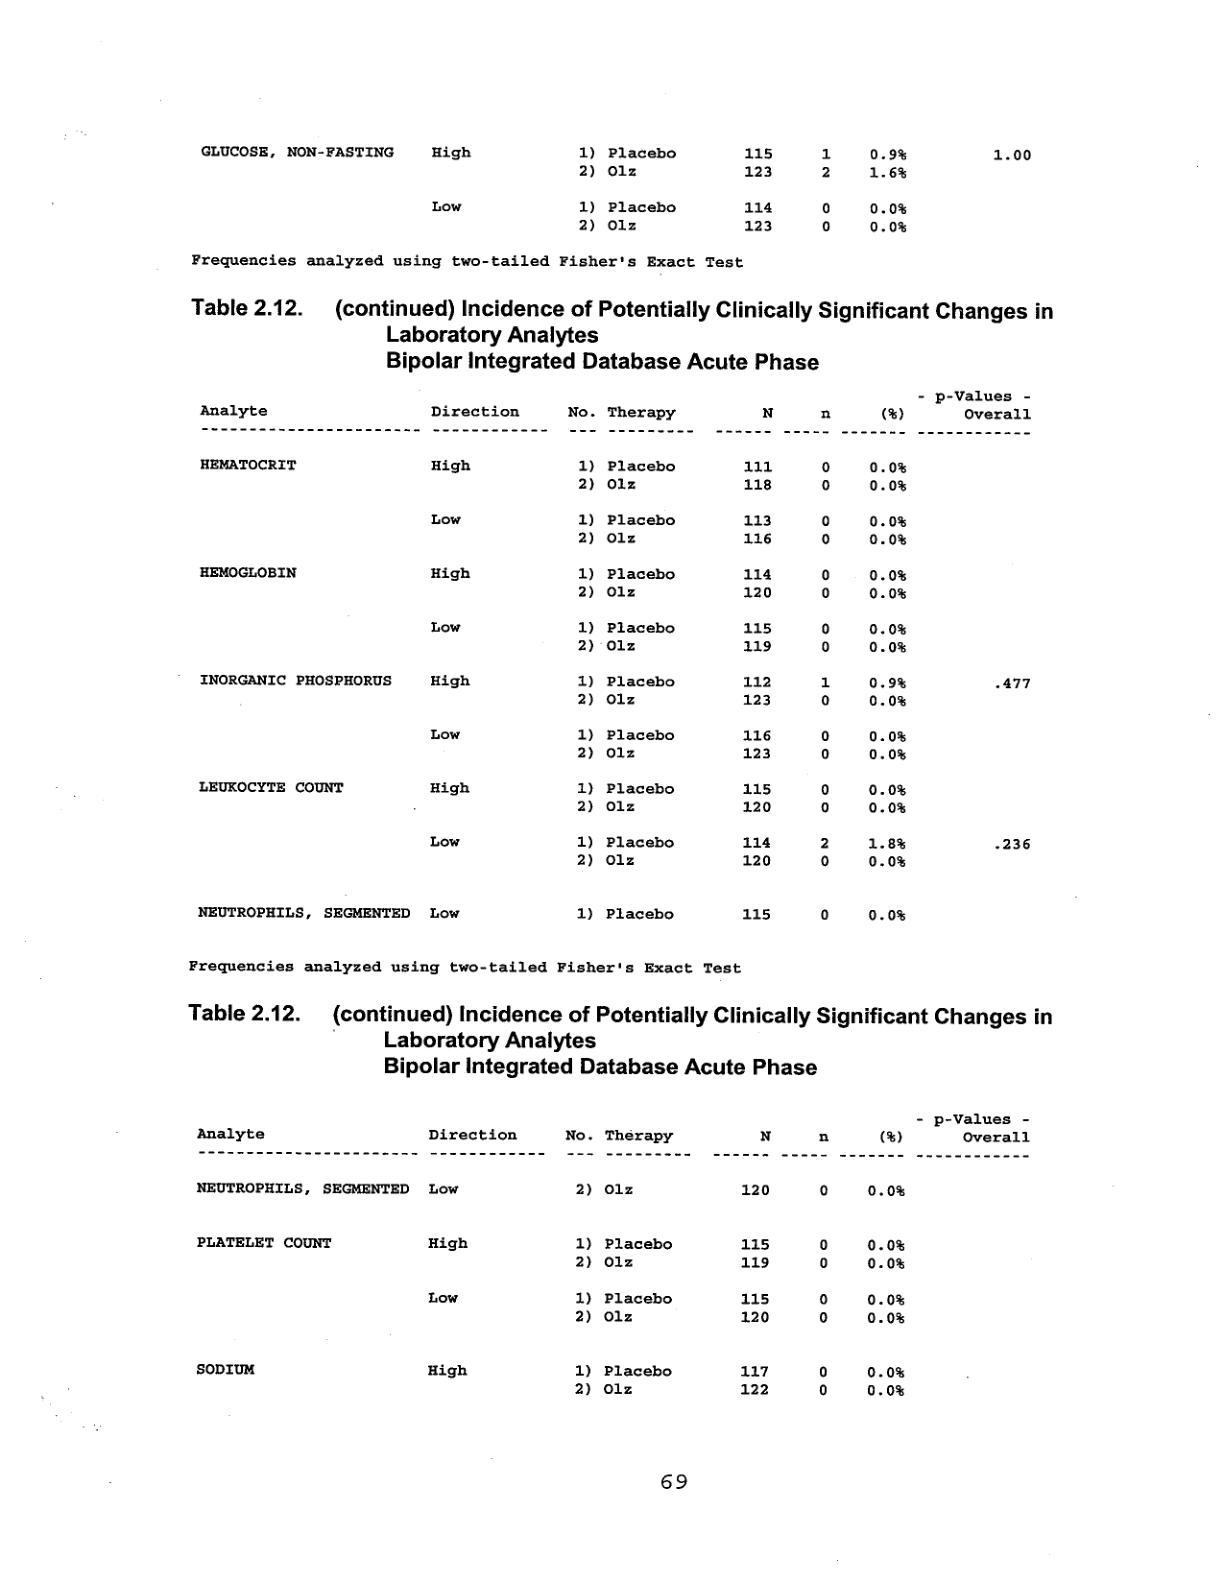nolines: (197, 387, 1038, 926), (191, 1108, 1031, 1398), (198, 137, 1036, 236)
